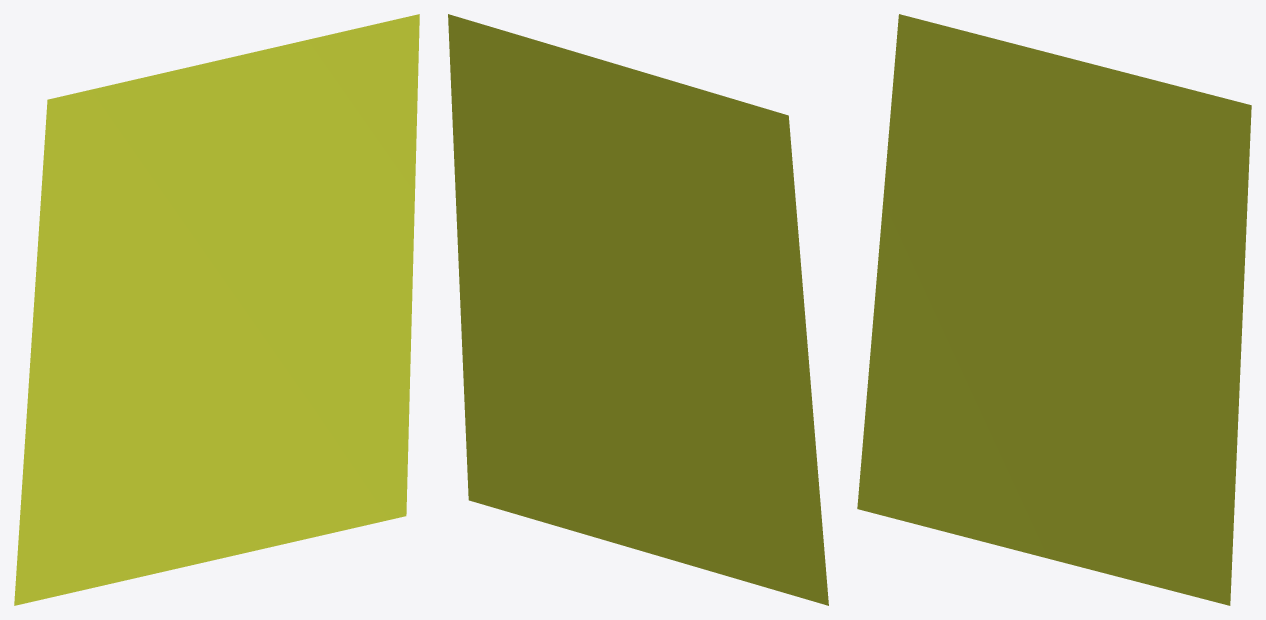
File: b_polySurface749_b_BMW_i8Elite_2017CalliperGloss_Material1_0.glb
The picture shows the model from 3 angles, left to right: view 1: azimuth 30°, elevation 25°; view 2: azimuth 150°, elevation 25°; view 3: azimuth 330°, elevation 25°; orthographic projection. The views are drawn at different scales.
Visible parts, largest first — view 1: b:polySurface749_b:BMW_i8Elite_2017CalliperGloss_Material1_0; view 2: b:polySurface749_b:BMW_i8Elite_2017CalliperGloss_Material1_0; view 3: b:polySurface749_b:BMW_i8Elite_2017CalliperGloss_Material1_0.
Boxes of the visible parts, left/top/right/bottom form: b:polySurface749_b:BMW_i8Elite_2017CalliperGloss_Material1_0: left=14, top=14, right=419, bottom=605; b:polySurface749_b:BMW_i8Elite_2017CalliperGloss_Material1_0: left=448, top=14, right=828, bottom=605; b:polySurface749_b:BMW_i8Elite_2017CalliperGloss_Material1_0: left=857, top=14, right=1251, bottom=605.
Size of the model in its own units: 0.024 by 0.0289 by 0.00169.
